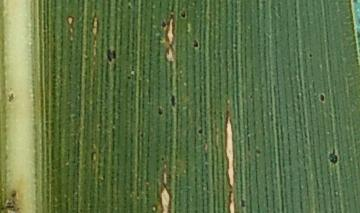tarspot: (102, 45, 119, 64), (326, 147, 341, 167), (178, 6, 188, 23), (191, 37, 202, 52), (155, 105, 166, 119), (168, 92, 177, 108), (318, 91, 326, 105), (159, 19, 169, 30), (197, 126, 206, 138)
